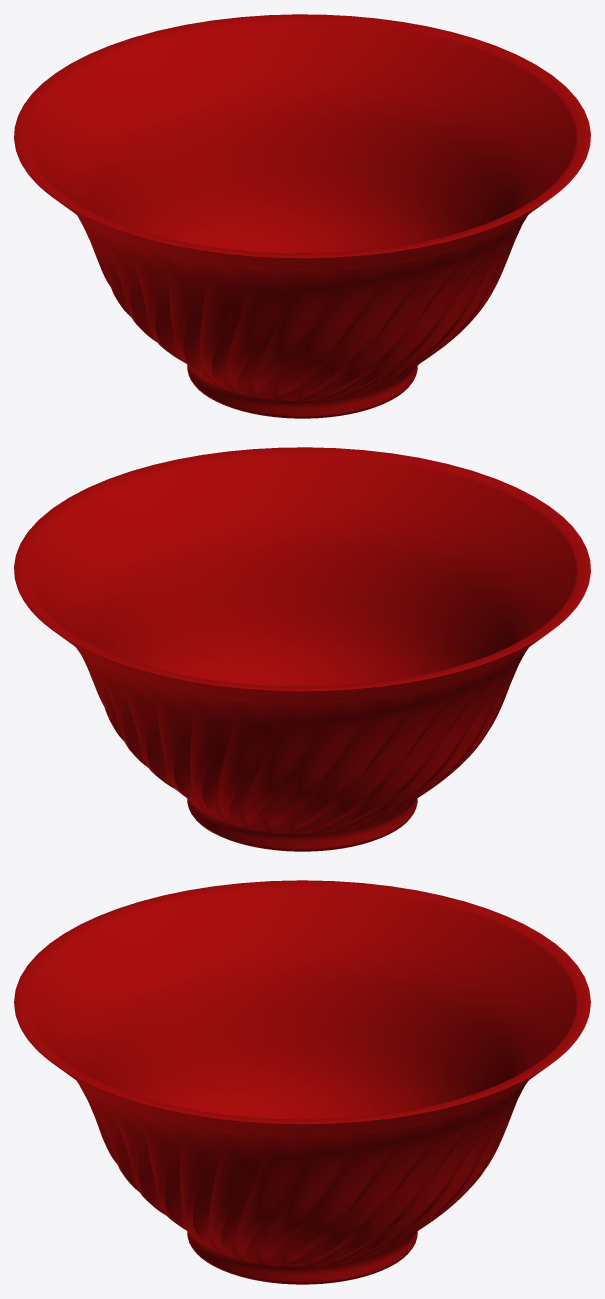
The model's file is floss.glb.
The picture shows the model from 3 angles, top to bottom: view 1: azimuth 30°, elevation 25°; view 2: azimuth 150°, elevation 25°; view 3: azimuth 270°, elevation 25°; orthographic projection.
Parts seen in each view (by area): view 1: Shell (×2); view 2: Shell (×2); view 3: Shell (×2).
Boxes of the visible parts, x1=… form: Shell (×2): x1=14, y1=14, x2=590, y2=418; Shell (×2): x1=14, y1=447, x2=590, y2=851; Shell (×2): x1=14, y1=880, x2=590, y2=1284.
Size of the model in its own units: 0.1001 by 0.0451 by 0.1001.
